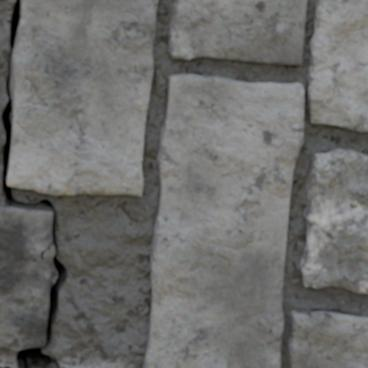brick: (143, 74, 303, 367), (8, 0, 157, 195), (301, 149, 367, 292), (169, 0, 306, 64), (307, 0, 367, 131), (0, 206, 53, 349), (286, 311, 367, 367)
crack: (1, 0, 70, 367)
